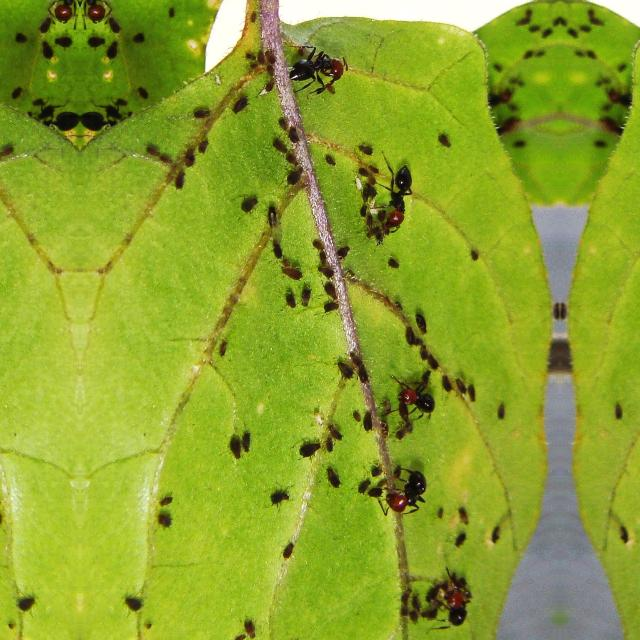Crematogaster: (373, 458, 432, 526), (374, 165, 421, 242), (432, 564, 480, 636), (281, 42, 349, 92), (382, 366, 434, 424), (80, 0, 124, 22), (36, 0, 80, 22)
